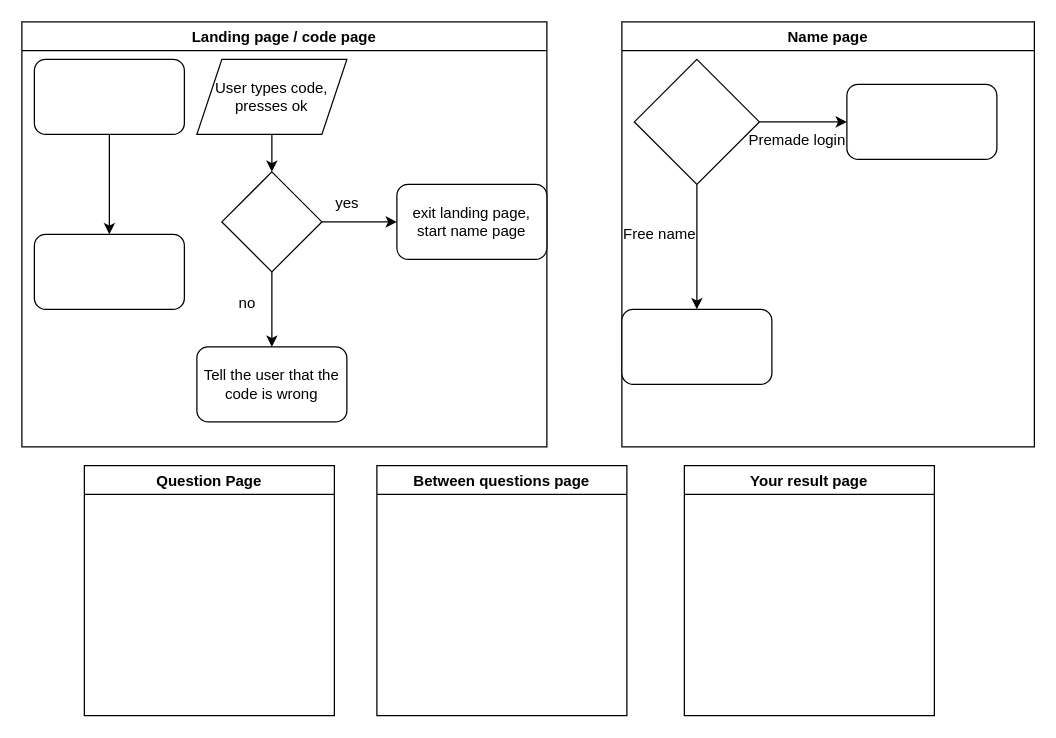
This 1056x738 diagram has some shape labels left out. The shapes that lost their labels are listed below. From the top down, each one's centre as x and y in pixels, then its label:
(108,96): Show textbox in the middle with integer input for code,
(696,121): Is code used to login for free names, or logins (if implemented)
(271,221): Does database recognize code?
(108,271): Show OK button, for verifying code
